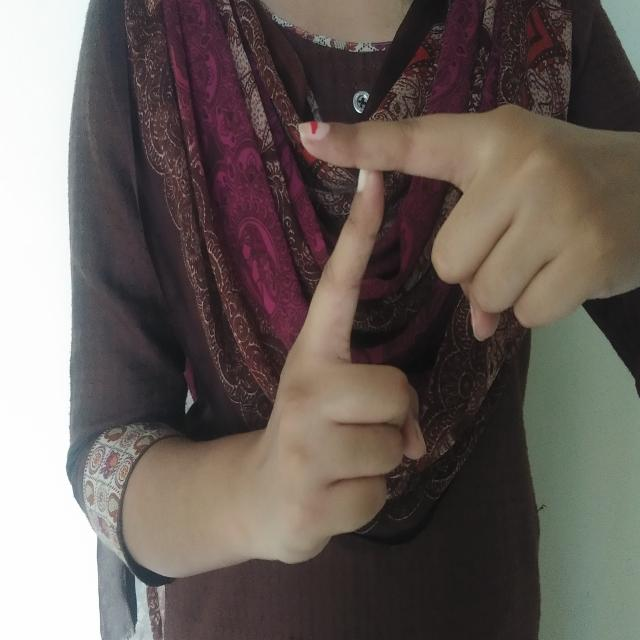T: (243, 96, 640, 580)
